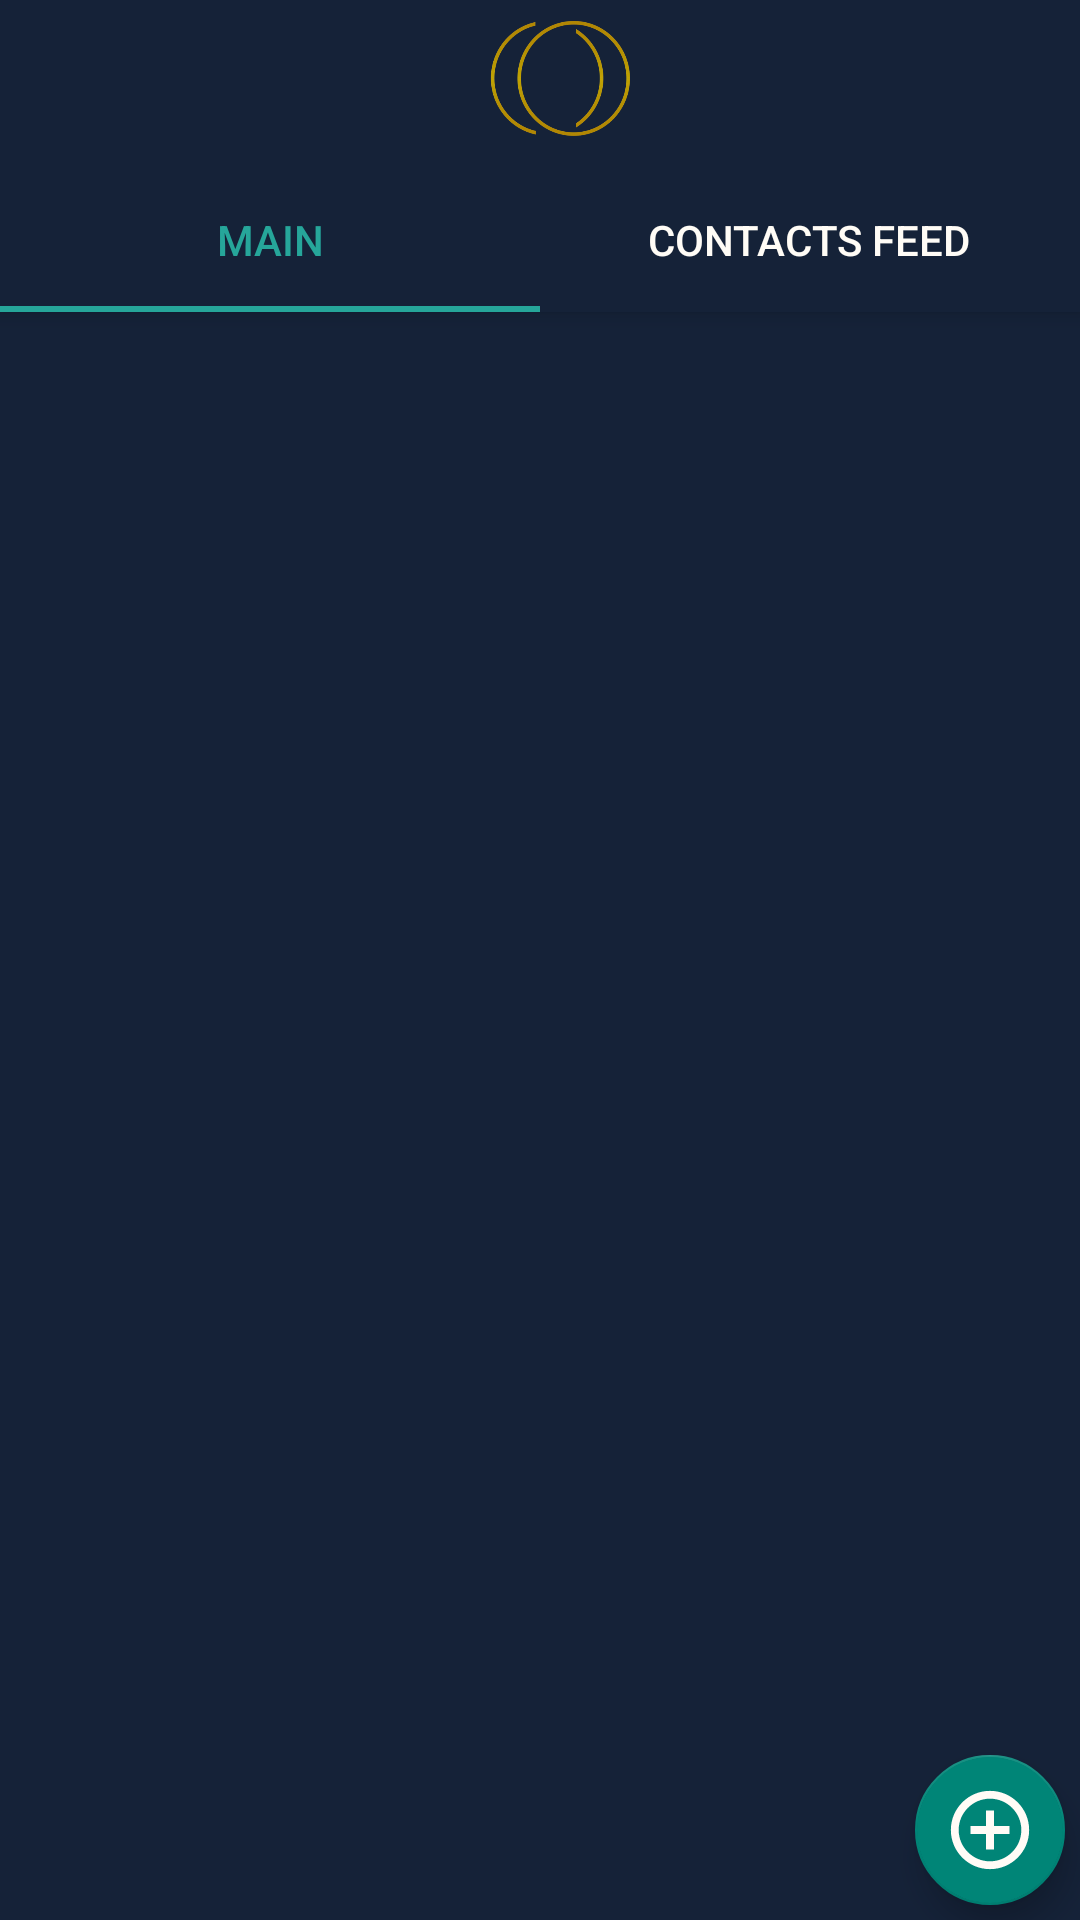

Named icons in this screenshot (1080w x 1920h) and their centers, point (x, y):
addpost: point (990, 1830)
